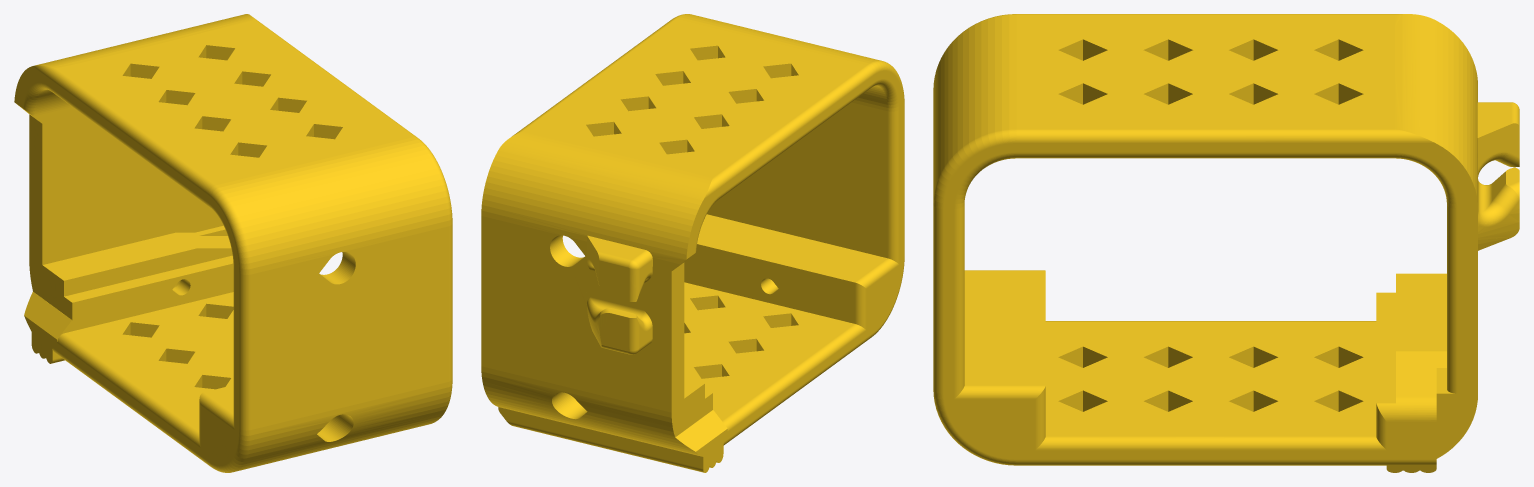
The model's file is lower_arm_visuals_motor_holder_so101_wrist_v1_mesh.obj.
3 renders of one model, left to right at view 1: azimuth 30°, elevation 25°; view 2: azimuth 150°, elevation 25°; view 3: azimuth 270°, elevation 25°, orthographic. The views are drawn at different scales.
Size of the model in its own units: 0.028 by 0.0369 by 0.0564.
